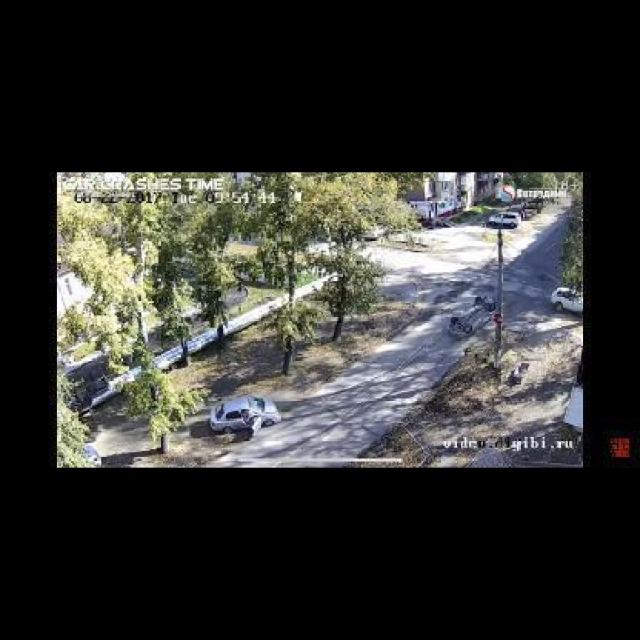accident: (434, 288, 501, 337)
